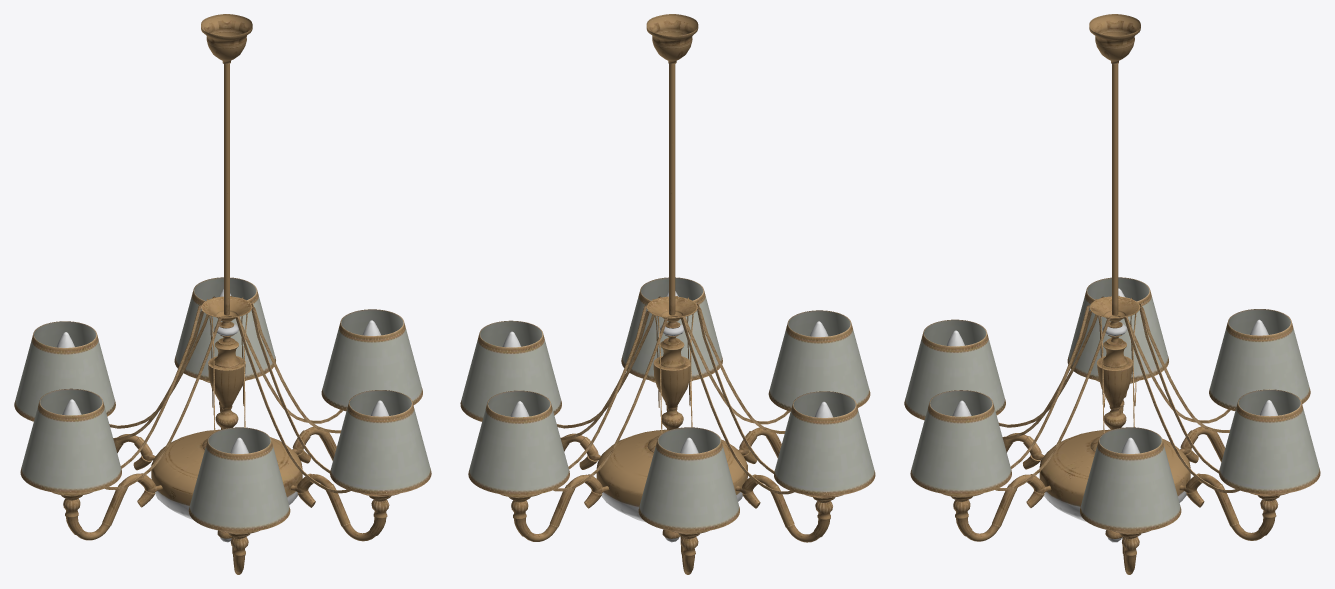
File: chandelier_02.glb
3 renders of one model, left to right at view 1: azimuth 30°, elevation 25°; view 2: azimuth 150°, elevation 25°; view 3: azimuth 270°, elevation 25°, orthographic.
Visible parts, largest first — view 1: Chandelier_02; view 2: Chandelier_02; view 3: Chandelier_02.
Part boxes in pixels (x1,y1,x2,y2): Chandelier_02: (14,14,431,574); Chandelier_02: (460,14,875,574); Chandelier_02: (904,14,1320,574).
Bounding box in the file's own units: 0.679 × 0.8481 × 0.619.
2 materials, 1 textured.
